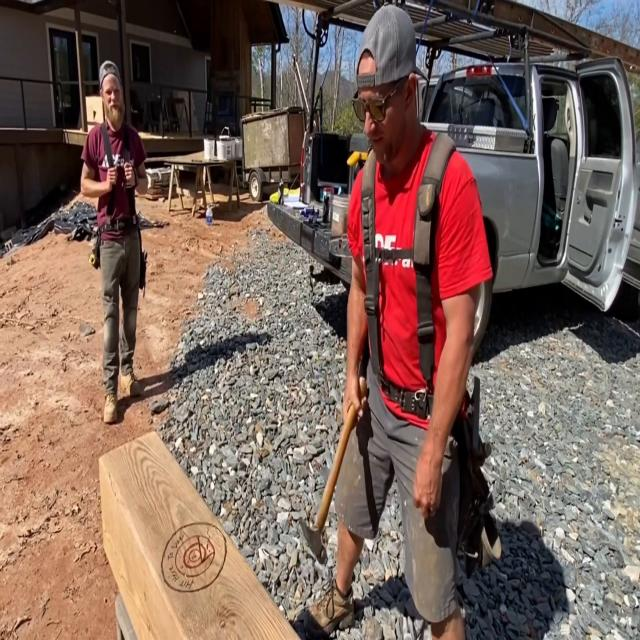hammer: (297, 375, 370, 575)
